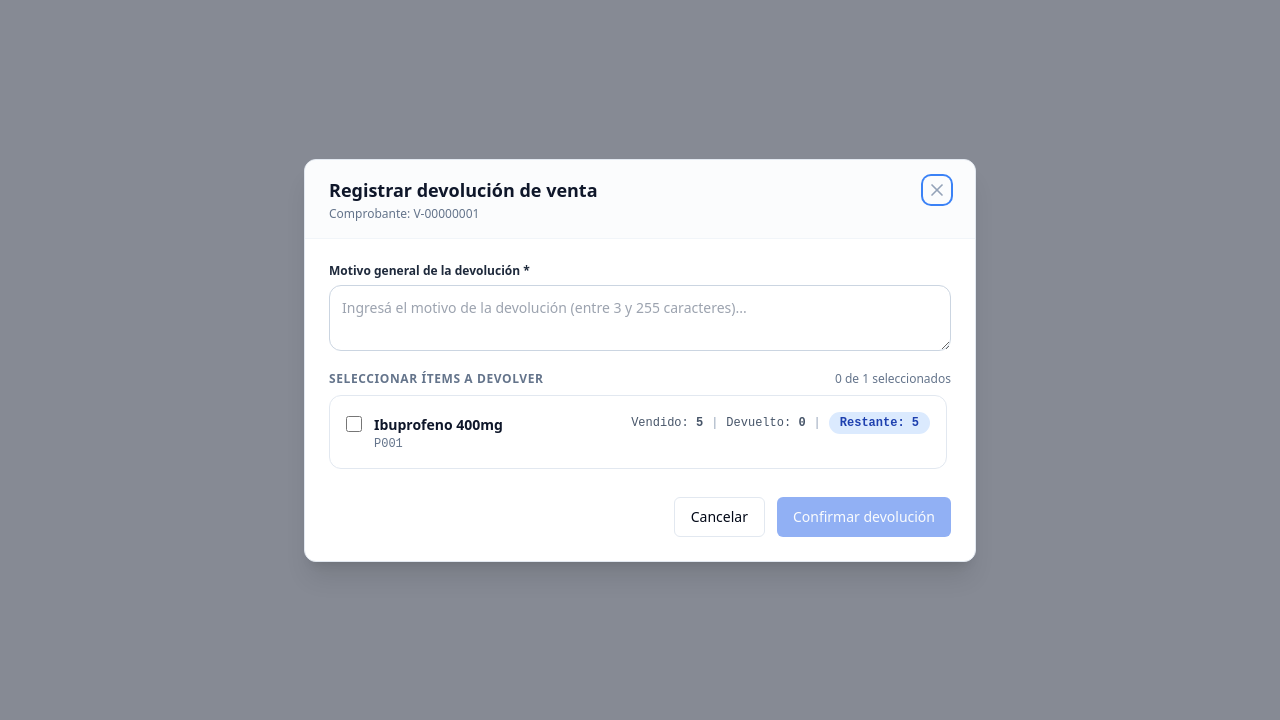
Scenario: SaleReturnModal › displays conflict message when 409 is returned from backend
expect the heading "Registrar devolución de venta" is shown: met, box left=329, top=176, right=598, bottom=204
Step 1. Click the checkbox named "Seleccionar Ibuprofeno 400mg" → (354, 424), box left=346, top=416, right=362, bottom=432
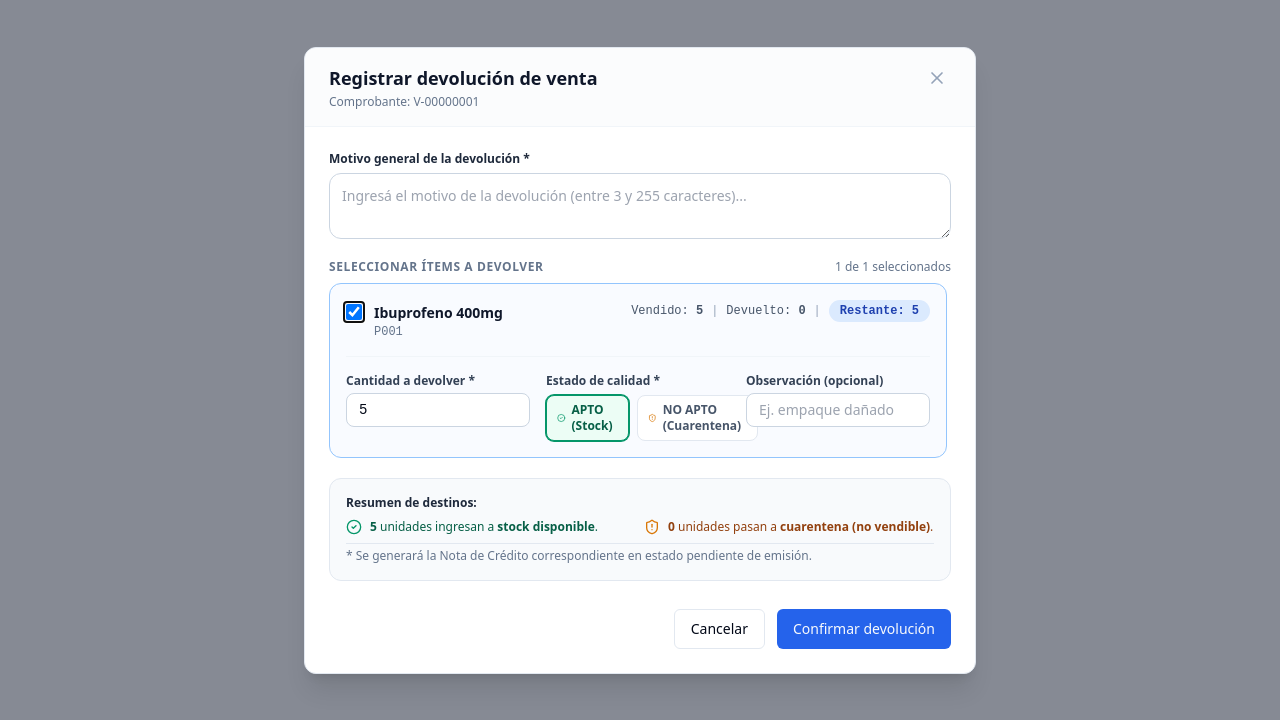
Step 2. Type "Devolución concurrente" into the text box labelled "Motivo general de la devolución *" → (640, 206), box left=329, top=172, right=951, bottom=238
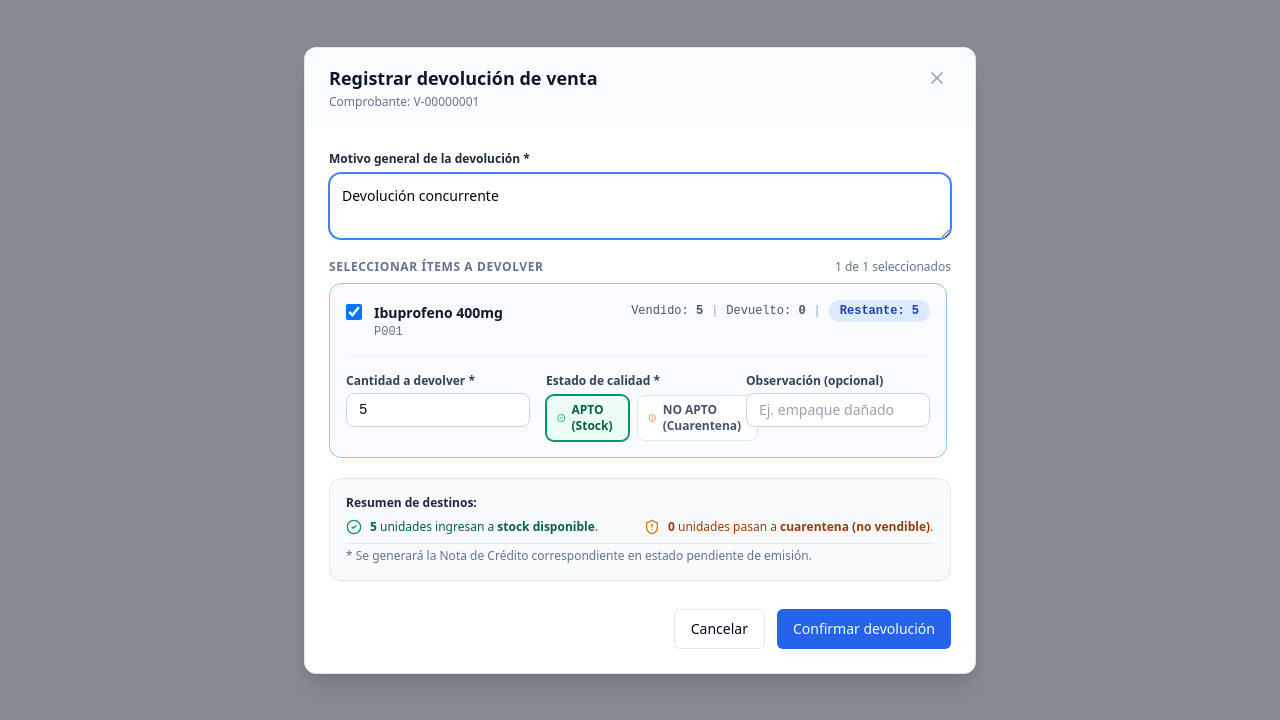
Step 3. Click the button "Confirmar devolución" → (864, 628), box left=777, top=608, right=951, bottom=648
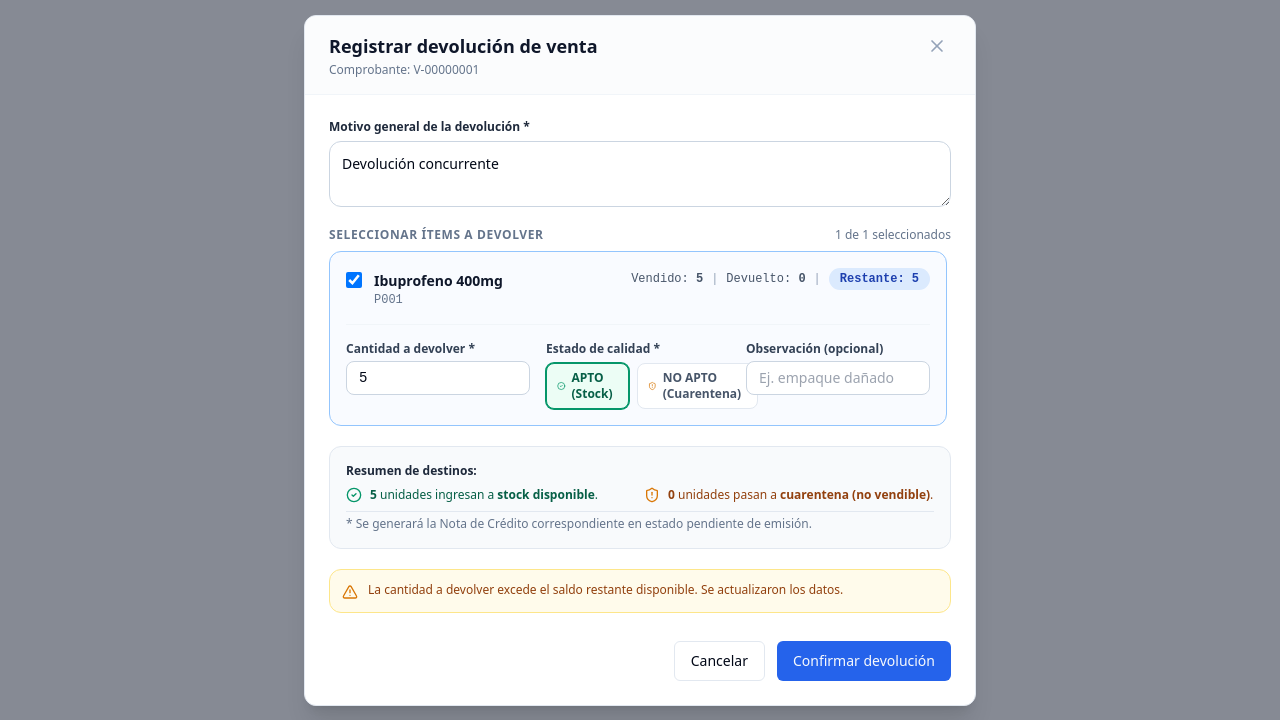
expect the message shows "excede el saldo restante": met, box left=368, top=580, right=843, bottom=598
